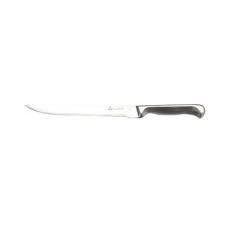Knife: (24, 102, 205, 119)
